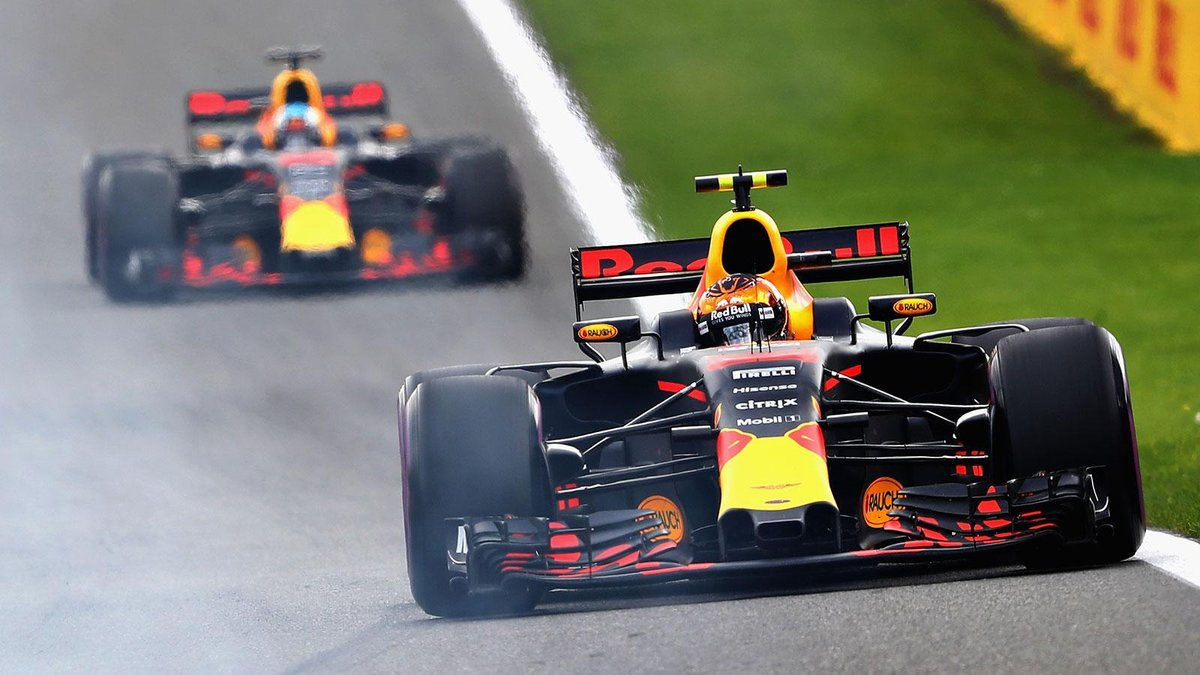race car: (394, 162, 1151, 627), (79, 44, 532, 312)
